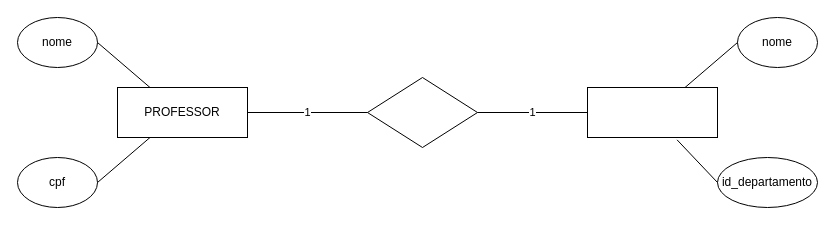
The diagram is 835 pixels wide and 225 high, and some of its shapes have lost their labels. The box of each missing label's shape, as (x1, y1, x2, y2) in pixels:
DEPARTAMENTO: (586, 86, 718, 138)
DIRIGE: (366, 76, 478, 148)
